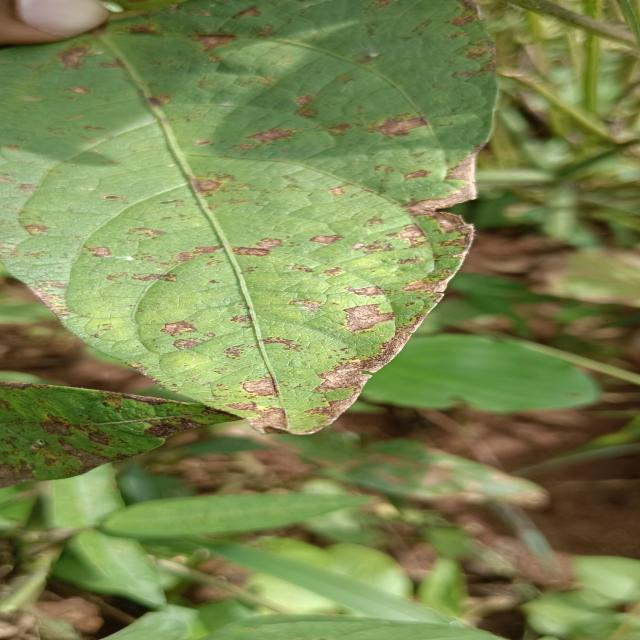Black gram_leaf spot: (7, 2, 498, 433)
